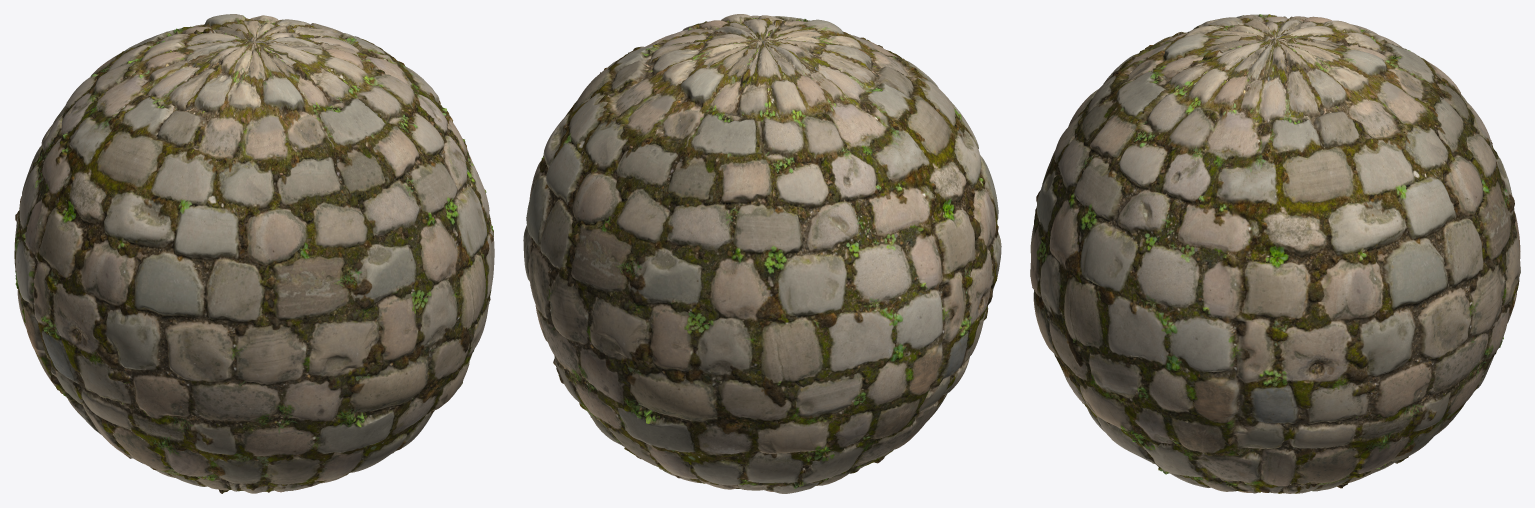
Rendered from cobblestone_floor_04_1k.gltf.
3 renders of one model, left to right at view 1: azimuth 30°, elevation 25°; view 2: azimuth 150°, elevation 25°; view 3: azimuth 270°, elevation 25°, orthographic.
Visible parts, largest first — view 1: sphere_gltf; view 2: sphere_gltf; view 3: sphere_gltf.
Boxes of the visible parts, x1,y1,x2,y2 form: sphere_gltf: (14,14,494,493); sphere_gltf: (523,14,1001,493); sphere_gltf: (1030,14,1520,493).
Bounding box in the file's own units: 1.51 × 1.51 × 1.54.
1 material, 1 textured.
